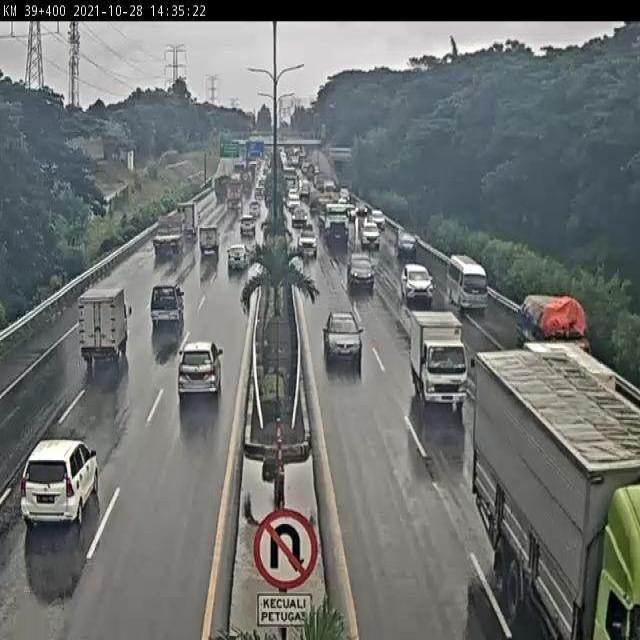car: (18, 429, 109, 539), (169, 335, 239, 407), (315, 307, 374, 373), (145, 283, 192, 337), (398, 260, 442, 311), (345, 253, 381, 300), (392, 227, 427, 264), (196, 224, 223, 265), (298, 227, 323, 260), (223, 247, 249, 277), (359, 224, 382, 252), (238, 213, 260, 239), (369, 208, 390, 231)
truck: (473, 344, 640, 640), (405, 307, 470, 415), (519, 336, 625, 388), (73, 285, 133, 376), (522, 283, 592, 348), (446, 254, 496, 318), (151, 206, 187, 266), (319, 201, 353, 247), (225, 176, 245, 213), (212, 171, 229, 201)
